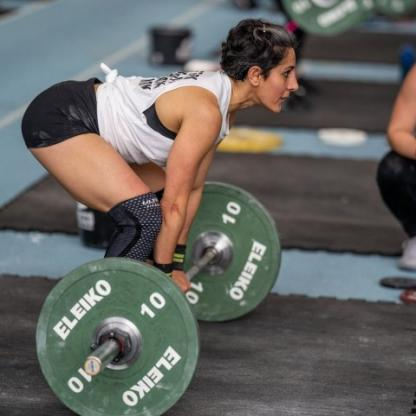barbell: (37, 257, 201, 416)
